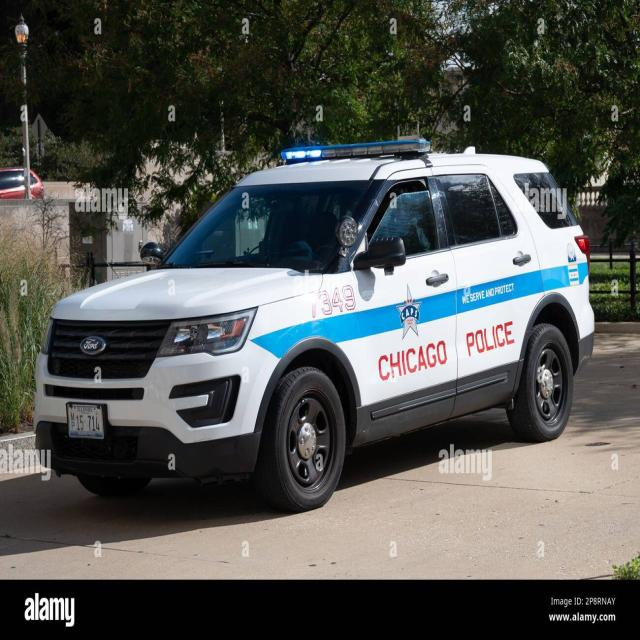cop: (36, 132, 594, 514)
